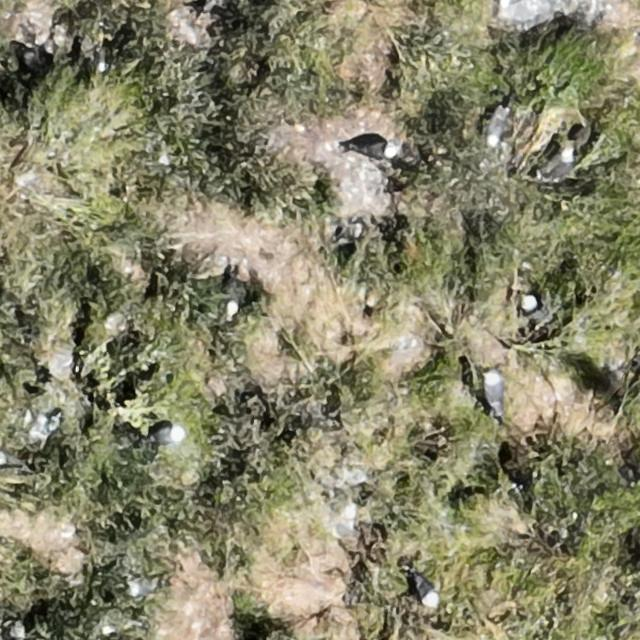umineko: (546, 150, 574, 178), (354, 139, 394, 158), (484, 372, 502, 414), (413, 576, 438, 606), (486, 111, 506, 146), (151, 426, 183, 445), (520, 294, 537, 314)
